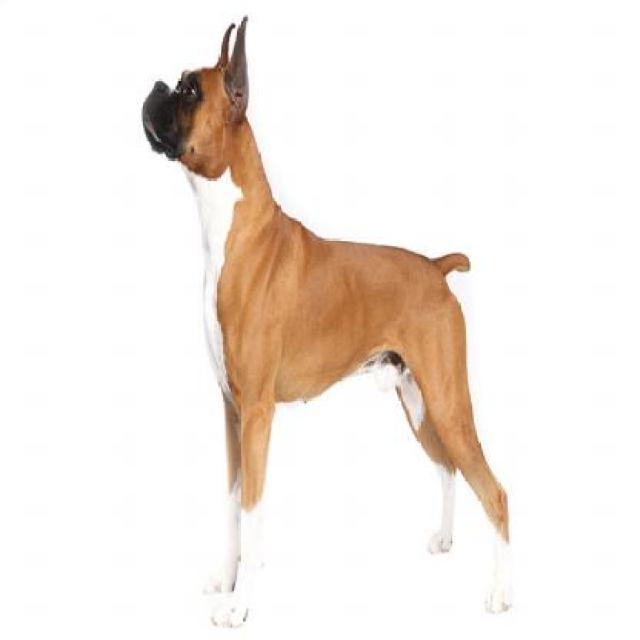animals: (138, 12, 514, 616)
